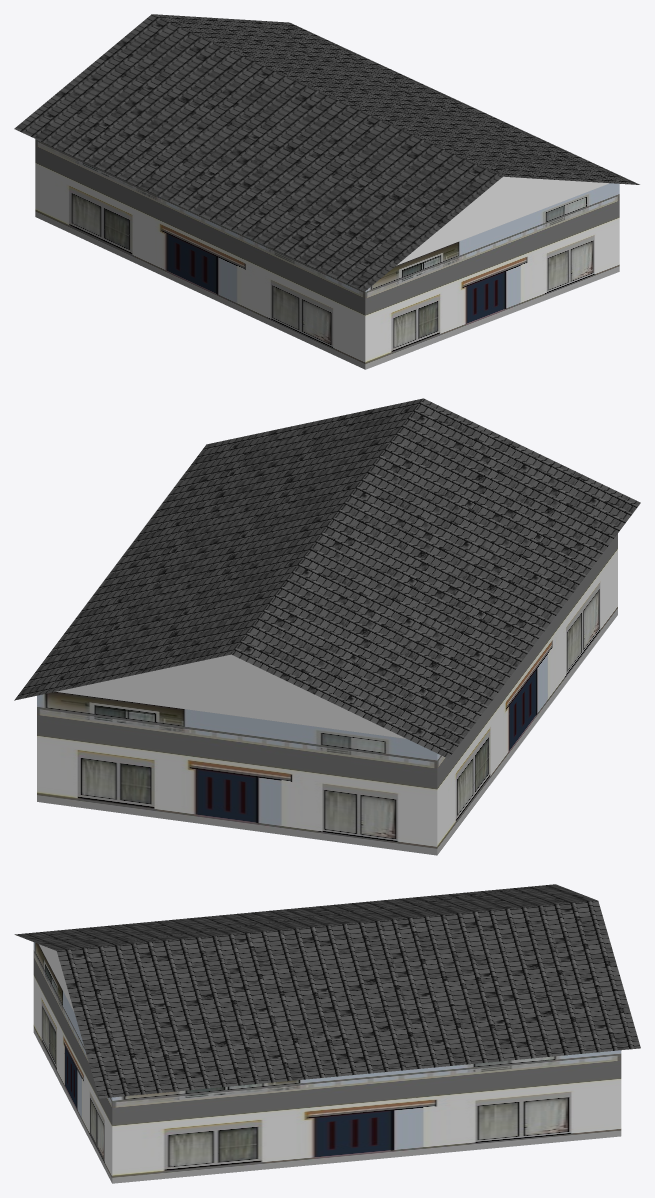
The picture shows the model from 3 angles, top to bottom: view 1: azimuth 30°, elevation 25°; view 2: azimuth 150°, elevation 25°; view 3: azimuth 270°, elevation 25°; orthographic projection. The views are drawn at different scales.
Visible parts, largest first — view 1: CityEngineMaterial_8_m, CityEngineMaterial_7_m, CityEngineMaterial_3_m; view 2: CityEngineMaterial_8_m, CityEngineMaterial_7_m, CityEngineMaterial_3_m; view 3: CityEngineMaterial_8_m, CityEngineMaterial_7_m, CityEngineMaterial_3_m.
Boxes of the visible parts, x1,y1,x2,y2 form: CityEngineMaterial_8_m: (14, 14, 639, 291); CityEngineMaterial_7_m: (35, 139, 619, 369); CityEngineMaterial_3_m: (396, 176, 608, 265); CityEngineMaterial_8_m: (14, 398, 640, 758); CityEngineMaterial_7_m: (37, 534, 617, 855); CityEngineMaterial_3_m: (56, 654, 405, 738); CityEngineMaterial_8_m: (14, 884, 640, 1098); CityEngineMaterial_7_m: (33, 942, 621, 1183); CityEngineMaterial_3_m: (39, 944, 74, 1012).
Bounding box in the file's own units: 30.44 × 10.5 × 37.62.
